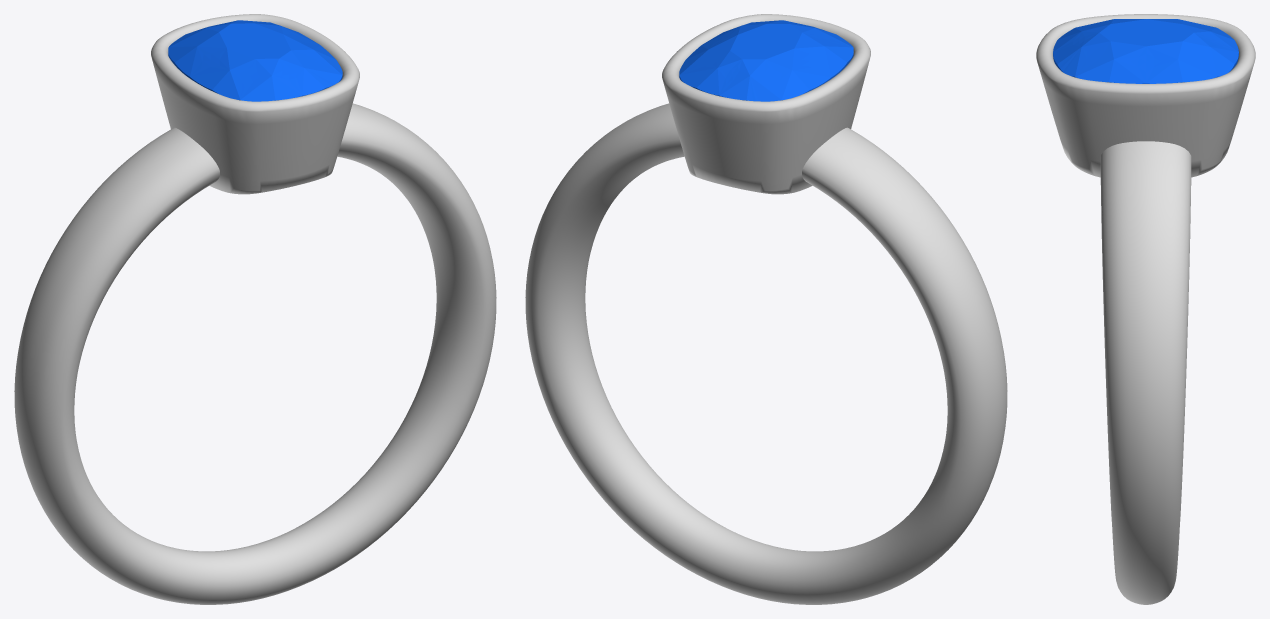
The model's file is bluesapphire-cushion-platinum-bezelset-taperedband-nosidestones.glb.
3 views of the same model, side by side, from view 1: azimuth 30°, elevation 25°; view 2: azimuth 150°, elevation 25°; view 3: azimuth 270°, elevation 25° (orthographic).
Parts seen in each view (by area): view 1: metal.001, stone; view 2: metal.001, stone; view 3: metal.001, stone.
Boxes of the visible parts, left/top/right/bottom form: metal.001: left=14, top=14, right=496, bottom=604; stone: left=168, top=20, right=342, bottom=101; metal.001: left=525, top=14, right=1007, bottom=604; stone: left=679, top=20, right=853, bottom=101; metal.001: left=1036, top=14, right=1255, bottom=604; stone: left=1053, top=19, right=1238, bottom=83.
Size of the model in its own units: 20.49 by 23.24 by 8.45.
